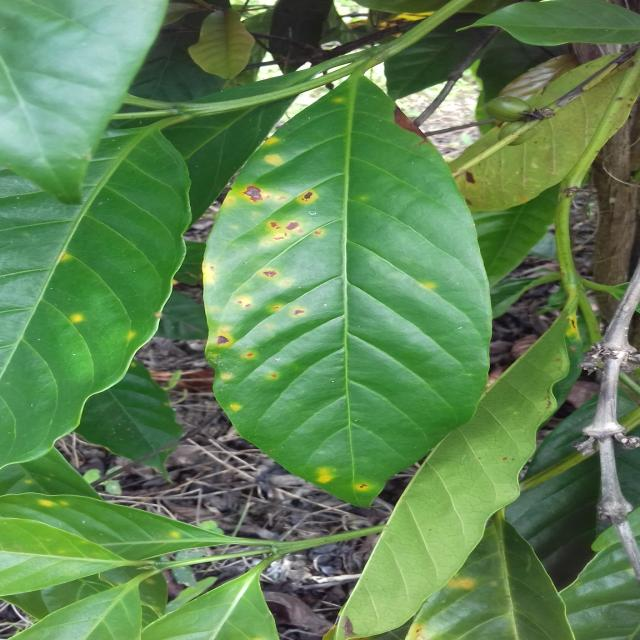Enfermedad-Roya: (204, 86, 493, 501)
